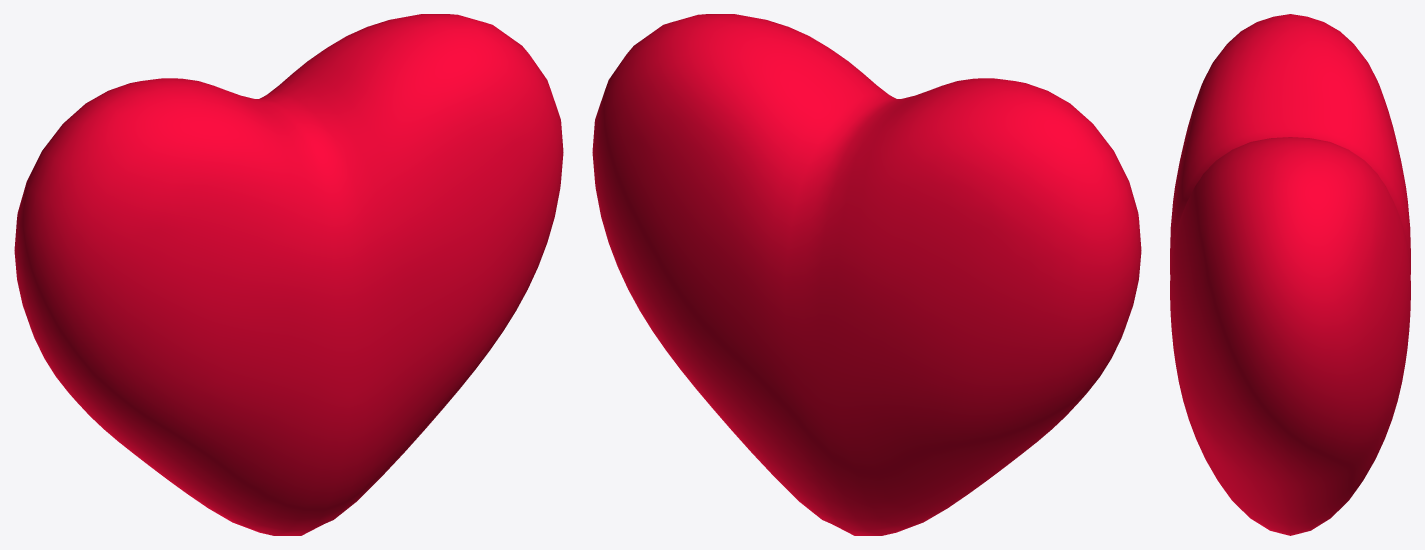
The model's file is emoji_heart.fbx.
The picture shows the model from 3 angles, left to right: view 1: azimuth 30°, elevation 25°; view 2: azimuth 150°, elevation 25°; view 3: azimuth 270°, elevation 25°; orthographic projection. The views are drawn at different scales.
Parts seen in each view (by area): view 1: emoji_heart; view 2: emoji_heart; view 3: emoji_heart.
Boxes of the visible parts, box(x1,y1,x2,y2) form: emoji_heart: box(14, 14, 563, 535); emoji_heart: box(592, 14, 1141, 535); emoji_heart: box(1170, 14, 1410, 535).
Bounding box in the file's own units: 1.06 × 0.9159 × 0.4544.
1 material, 1 textured.
